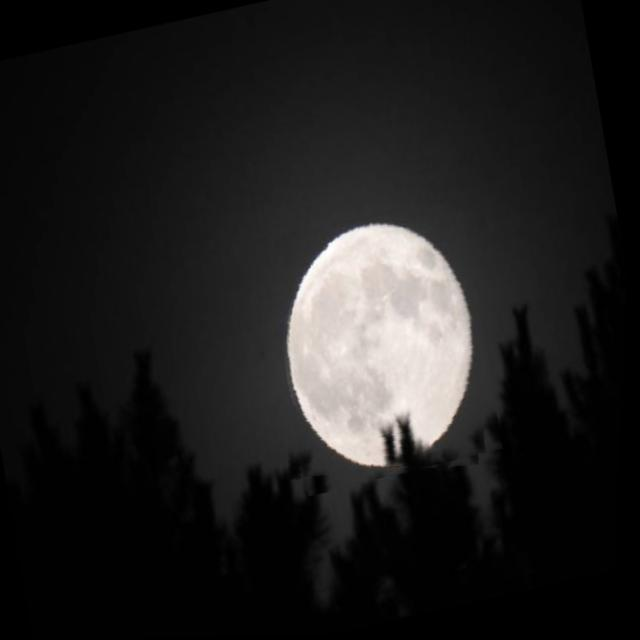moon: (251, 200, 516, 500)
